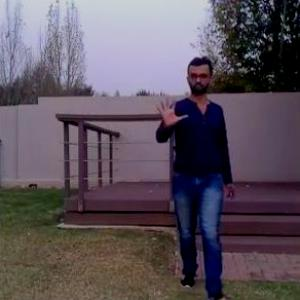follow_hand: (153, 92, 187, 130)
